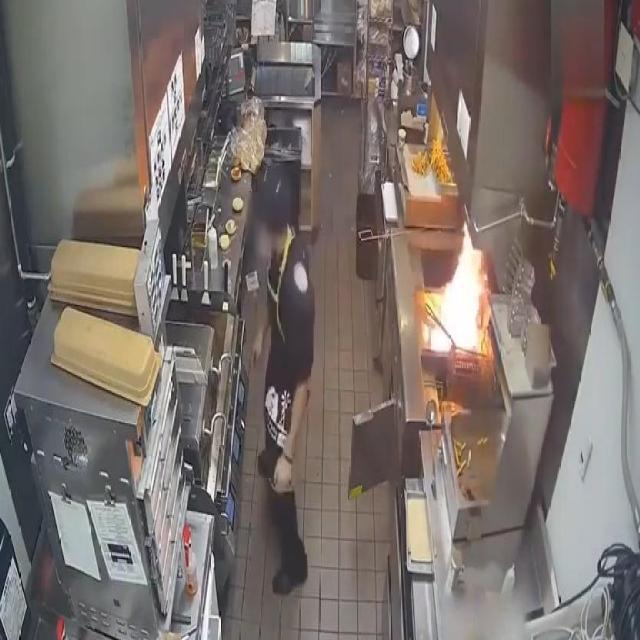smoke: (438, 224, 493, 362)
